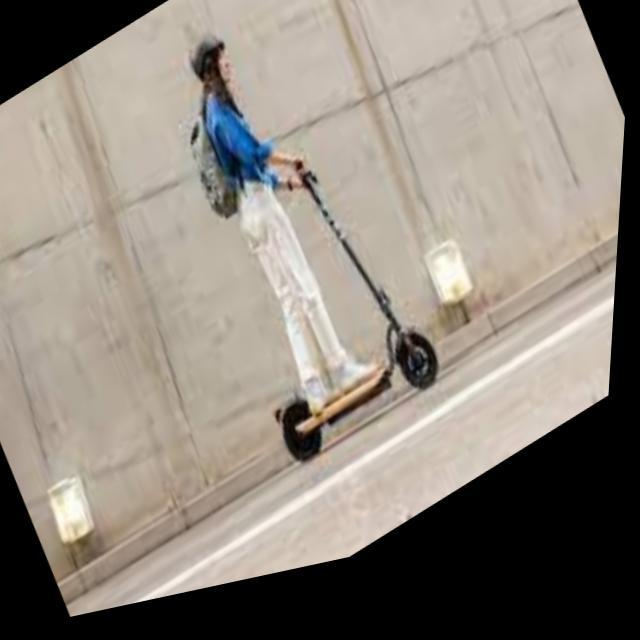Helmet: (177, 23, 243, 98)
